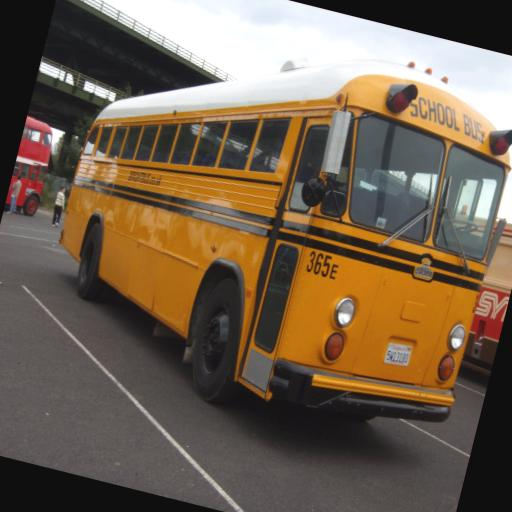bus: (25, 0, 512, 465), (464, 224, 512, 373)
